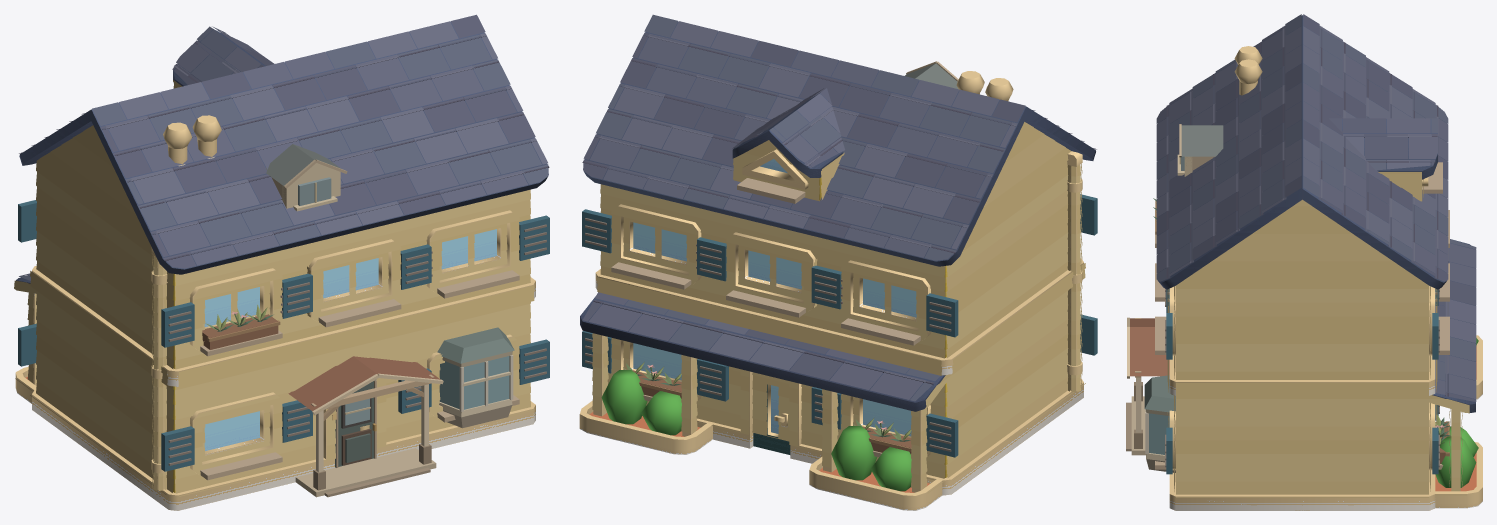
The model's file is house-e-yellow.glb.
3 views of the same model, side by side, from view 1: azimuth 30°, elevation 25°; view 2: azimuth 150°, elevation 25°; view 3: azimuth 270°, elevation 25° (orthographic). The views are drawn at different scales.
Visible parts, largest first — view 1: Handlaid_roof_entry_porch_and_joinery, building-type-e, Details; view 2: Handlaid_roof_entry_porch_and_joinery, building-type-e, Details; view 3: Handlaid_roof_entry_porch_and_joinery, building-type-e, Details.
Part boxes in pixels (x1=…): Handlaid_roof_entry_porch_and_joinery: x1=14, y1=14, x2=549, y2=497; building-type-e: x1=15, y1=21, x2=548, y2=510; Details: x1=18, y1=200, x2=549, y2=471; Handlaid_roof_entry_porch_and_joinery: x1=582, y1=14, x2=1096, y2=493; building-type-e: x1=579, y1=21, x2=1095, y2=510; Details: x1=582, y1=194, x2=1097, y2=457; Handlaid_roof_entry_porch_and_joinery: x1=1126, y1=14, x2=1476, y2=497; building-type-e: x1=1157, y1=15, x2=1482, y2=510; Details: x1=1166, y1=288, x2=1438, y2=474.
Bounding box in the file's own units: 1.3 × 1.14 × 1.13.
Materials: 49 (1 with a texture image).
